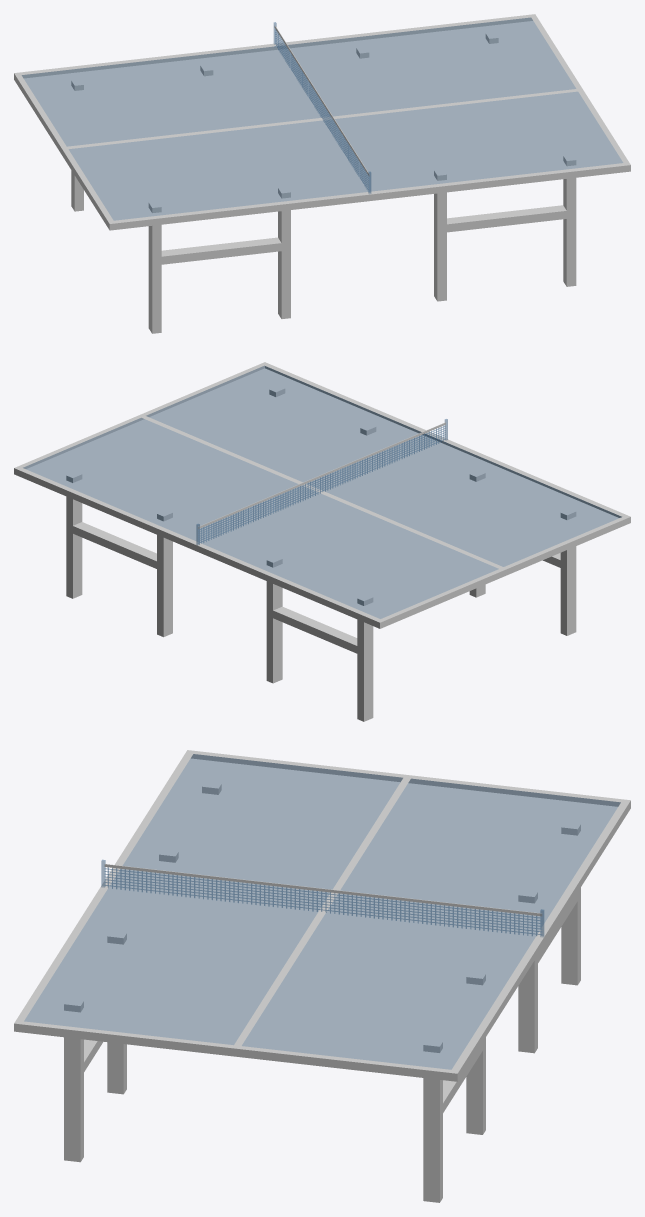
File: Table_tennis_table.glb
3 renders of one model, top to bottom at view 1: azimuth 30°, elevation 25°; view 2: azimuth 150°, elevation 25°; view 3: azimuth 270°, elevation 25°, orthographic. The views are drawn at different scales.
Parts seen in each view (by area): view 1: Table tennis table; view 2: Table tennis table; view 3: Table tennis table.
Part boxes in pixels (<box>): Table tennis table: <box>14,14,630,333</box>; Table tennis table: <box>14,362,630,721</box>; Table tennis table: <box>14,750,630,1202</box>.
Bounding box in the file's own units: 537642 × 142891 × 433021.
